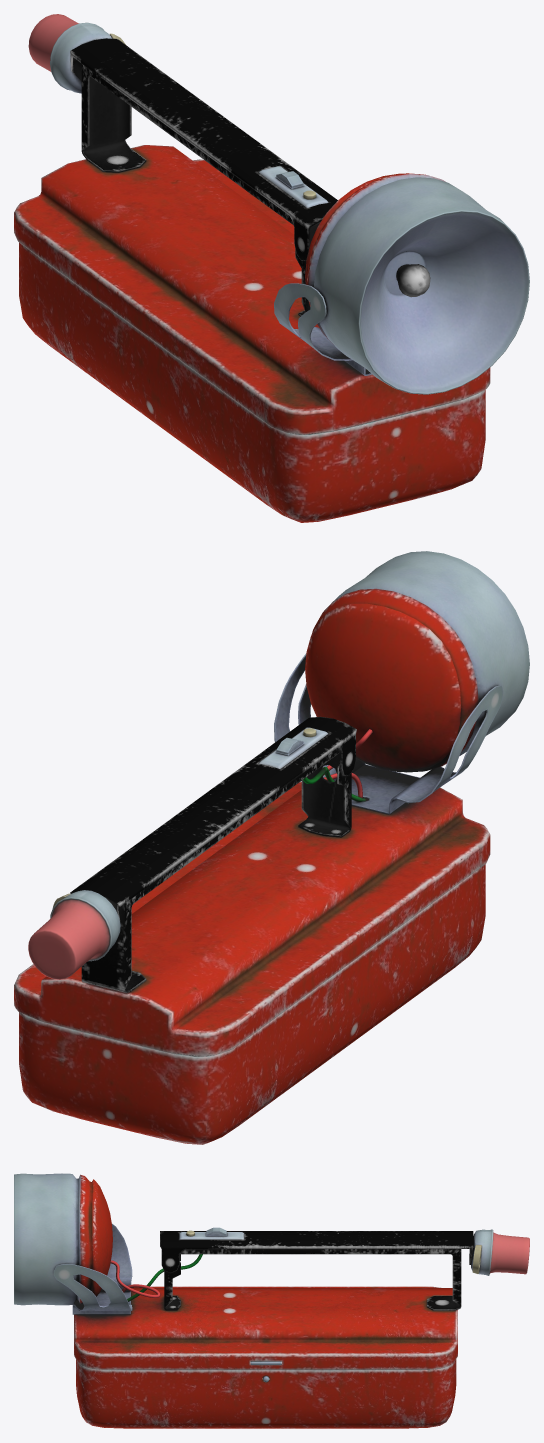
File: vintage_flashlight.glb
The picture shows the model from 3 angles, top to bottom: view 1: azimuth 30°, elevation 25°; view 2: azimuth 150°, elevation 25°; view 3: azimuth 270°, elevation 25°; orthographic projection. The views are drawn at different scales.
Parts seen in each view (by area): view 1: vintage_flashlight; view 2: vintage_flashlight; view 3: vintage_flashlight.
Boxes of the visible parts, box(x1,y1,x2,y2) form: vintage_flashlight: box(14, 14, 529, 522); vintage_flashlight: box(14, 551, 529, 1144); vintage_flashlight: box(14, 1173, 529, 1428).
Size of the model in its own units: 0.0959 by 0.1443 by 0.3002.
Materials: 1 (1 with a texture image).
